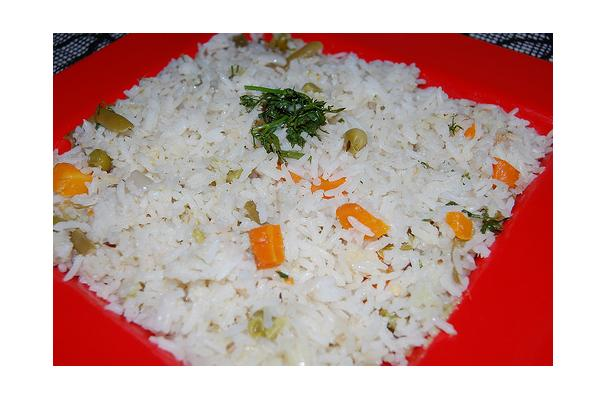plain rice: (149, 89, 403, 346)
